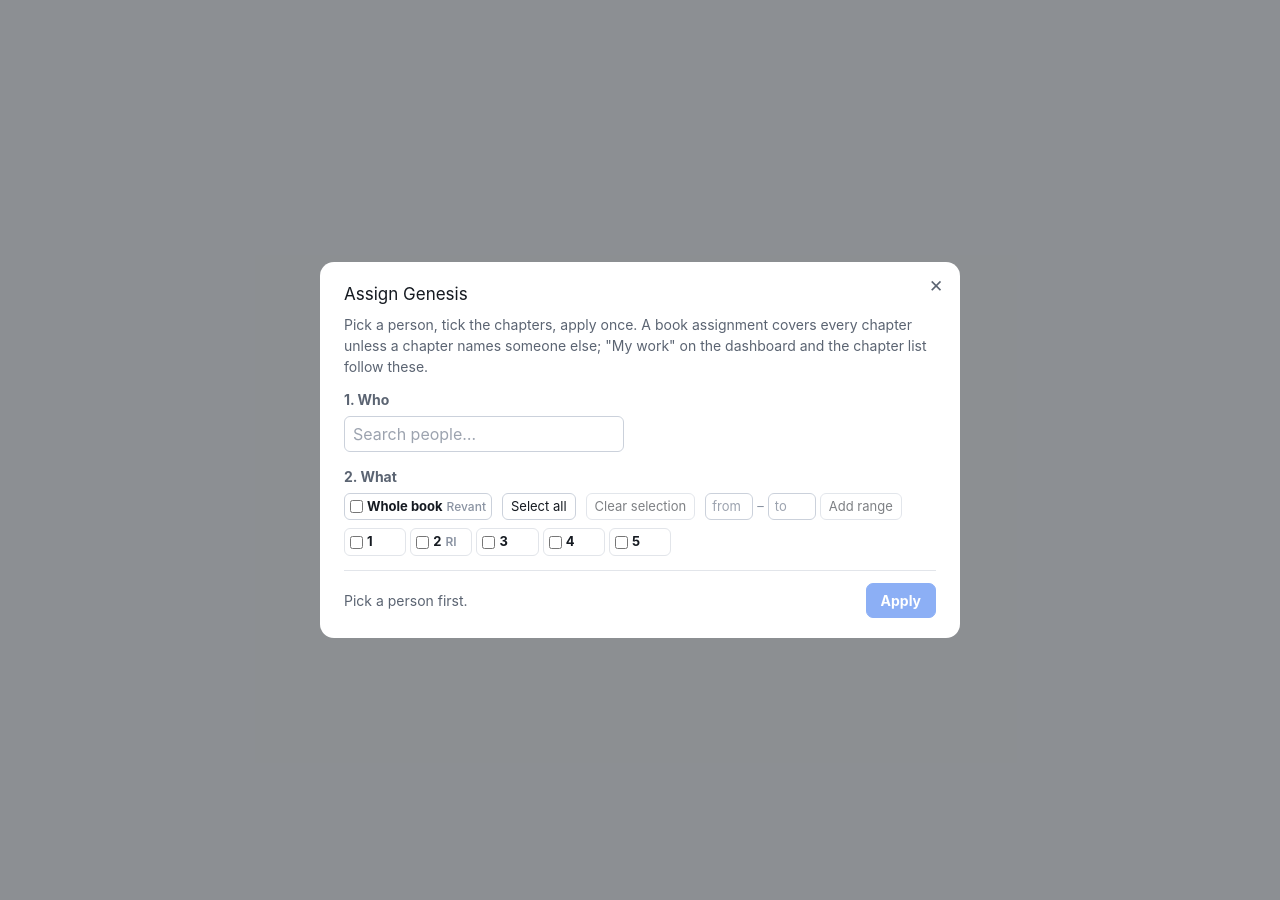
Test case: AssignmentsDialog (#378: person once, chapters, one Apply) › keeps Apply off until a person is picked and a change is ticked
Check: the button "Apply" is disabled, box [866, 583, 936, 618]
Check: the text "Pick a person first." is shown, box [344, 590, 468, 611]
Focus the dropdown named "Person" at (484, 434), box [344, 416, 624, 452]
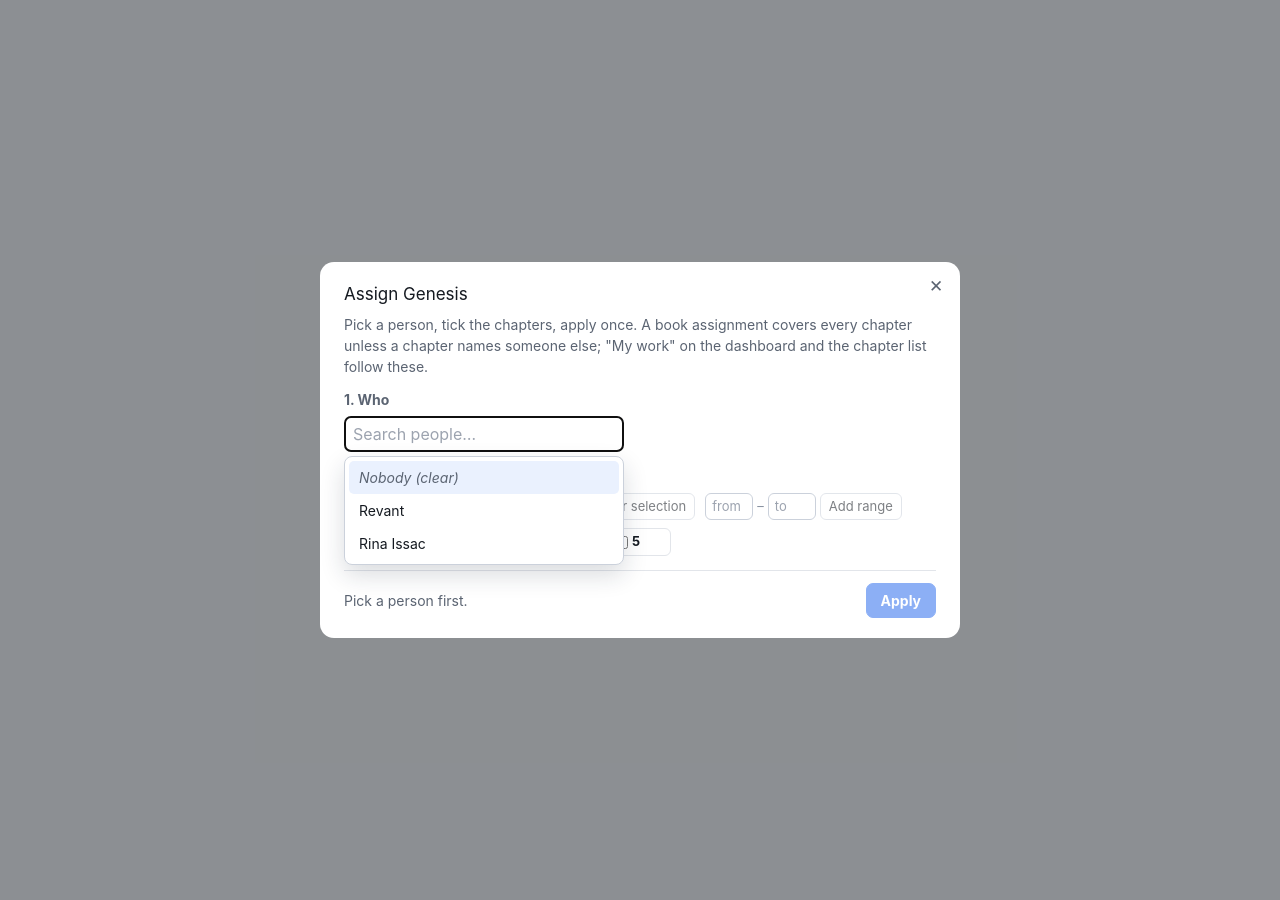
Press the mouse on the option "Revant" at (382, 510), box [359, 502, 404, 519]
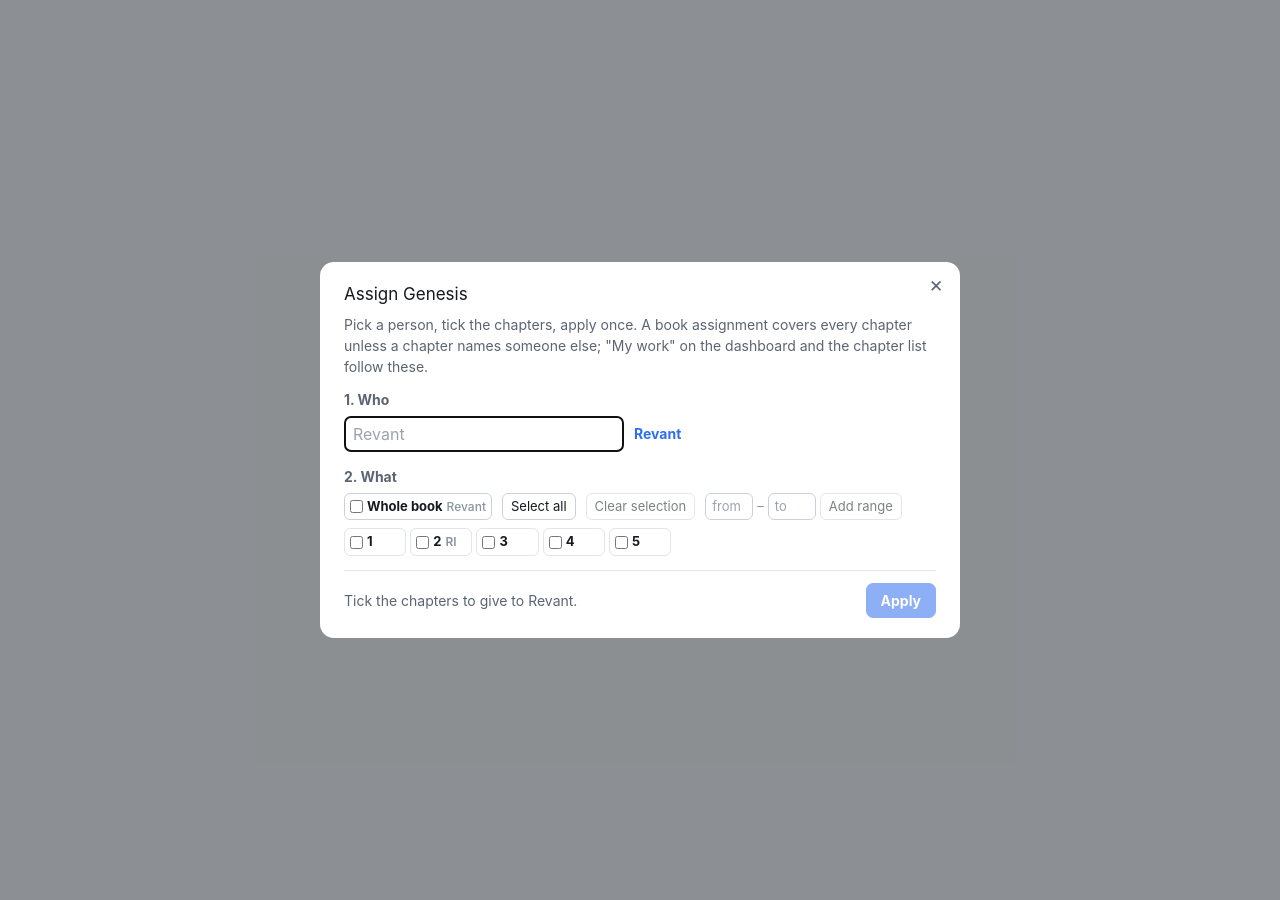
Check: the button "Apply" is disabled, box [866, 583, 936, 618]
Check: the text "Tick the chapters to give to Revant." is shown, box [344, 590, 577, 611]
Click the checkbox labelled "Whole book" at (356, 506), box [350, 500, 363, 513]
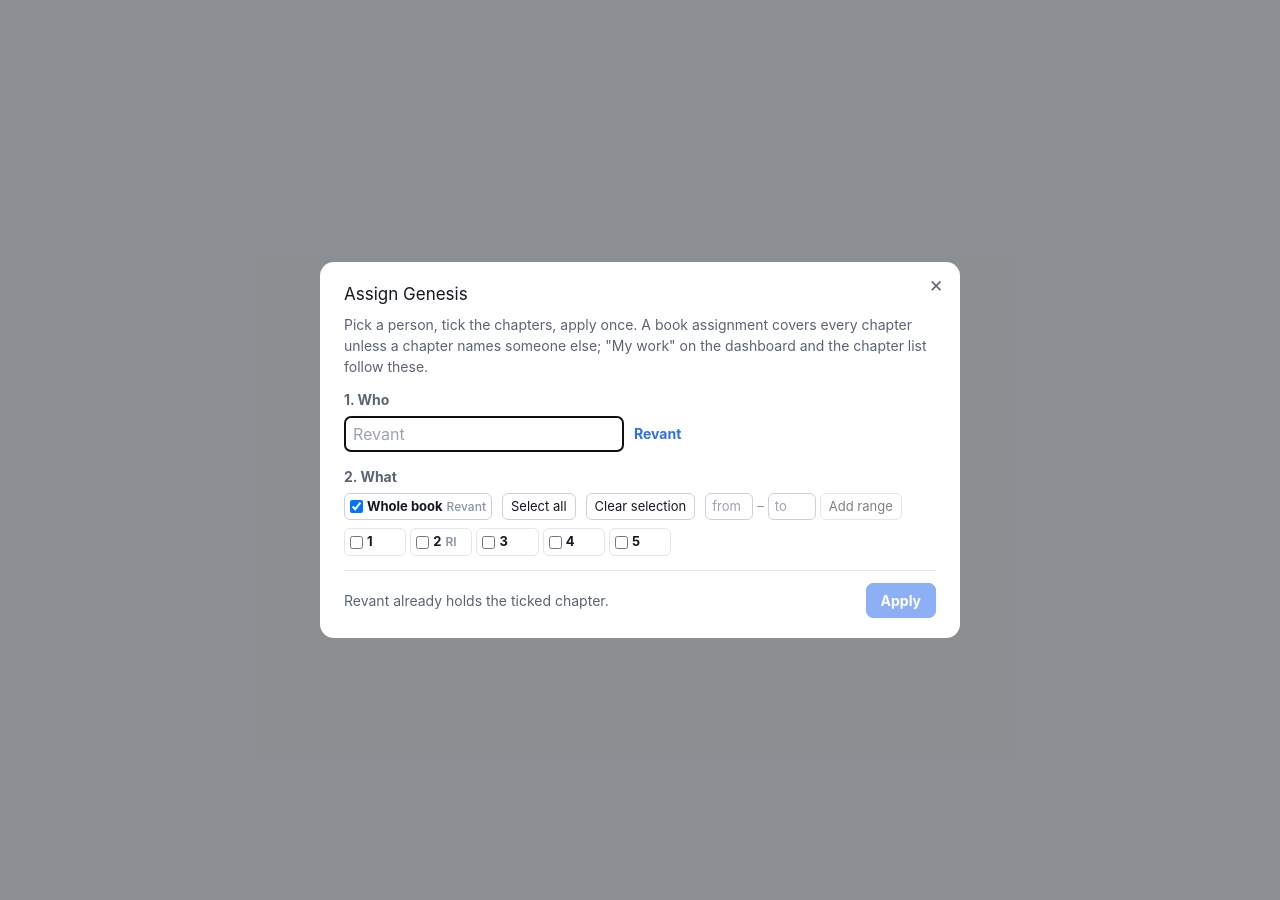
Check: the button "Apply" is disabled, box [866, 583, 936, 618]
Check: the text "Revant already holds the ticked chapter." is shown, box [344, 590, 609, 611]
Click the checkbox named "Chapter 2" at (423, 542), box [416, 536, 429, 548]
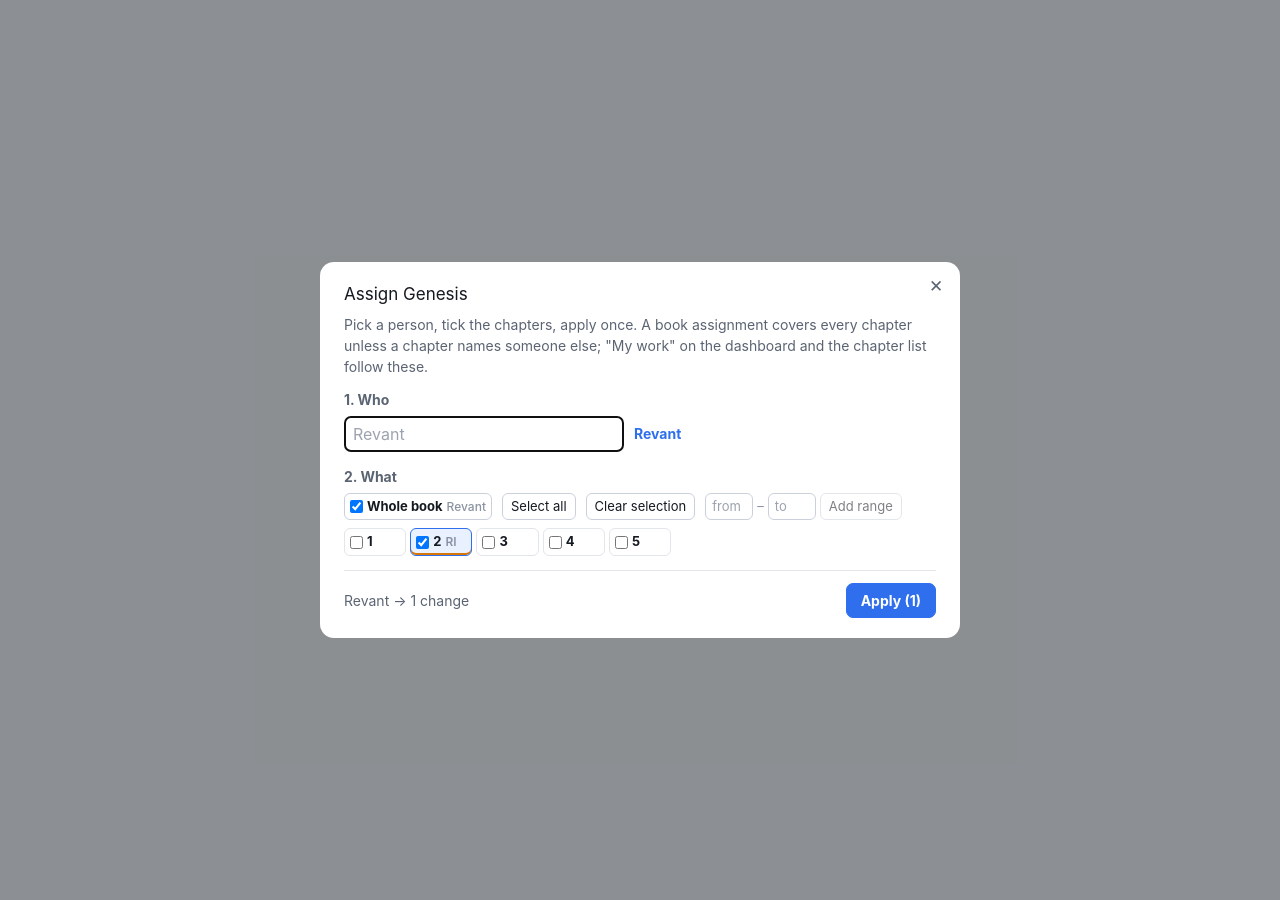
Check: the button "Apply (1)" is enabled, box [846, 583, 936, 618]
